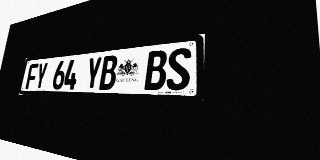4: (63, 59, 79, 90)
6: (52, 60, 67, 89)
B: (144, 50, 168, 90), (99, 55, 118, 90)
F: (25, 63, 39, 89)
S: (166, 47, 191, 90)
Y: (84, 56, 102, 90), (34, 62, 48, 89)
